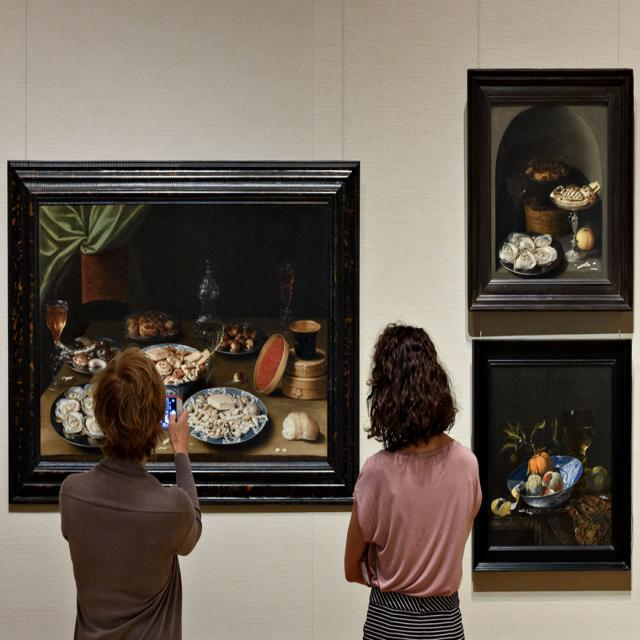Tablo: (38, 202, 330, 464), (489, 364, 613, 548), (489, 101, 609, 281)
